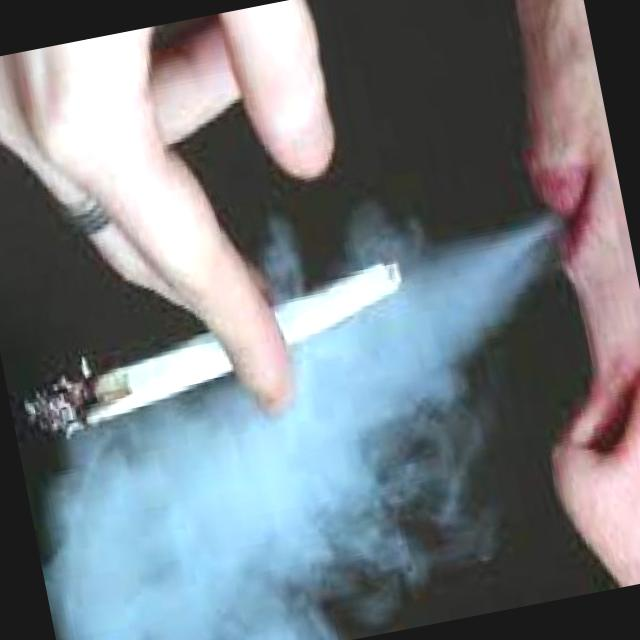smoke: (8, 249, 427, 456)
